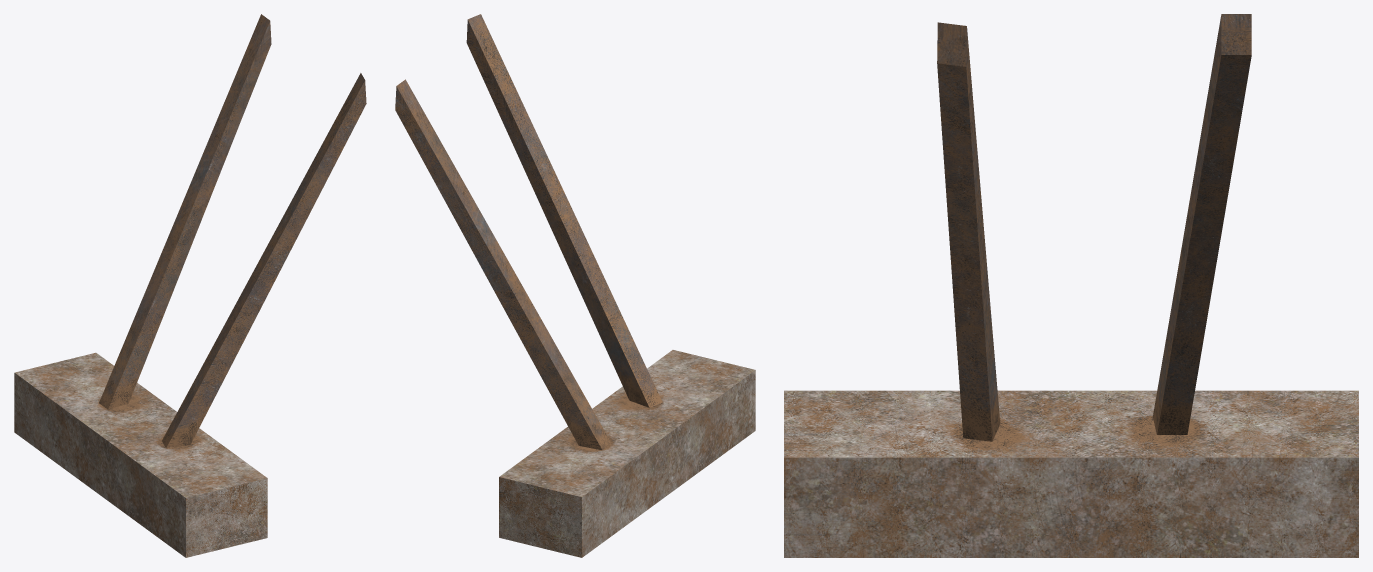
The model's file is ApoyoEdificio3.obj.
The picture shows the model from 3 angles, left to right: view 1: azimuth 30°, elevation 25°; view 2: azimuth 150°, elevation 25°; view 3: azimuth 270°, elevation 25°; orthographic projection. The views are drawn at different scales.
Parts seen in each view (by area): view 1: Box128; view 2: Box128; view 3: Box128.
Boxes of the visible parts, x1,y1,x2,y2 form: Box128: [14, 14, 366, 557]; Box128: [395, 14, 755, 557]; Box128: [784, 14, 1358, 557].
Bounding box in the file's own units: 36.35 × 58.63 × 46.78.
1 material, 1 textured.
